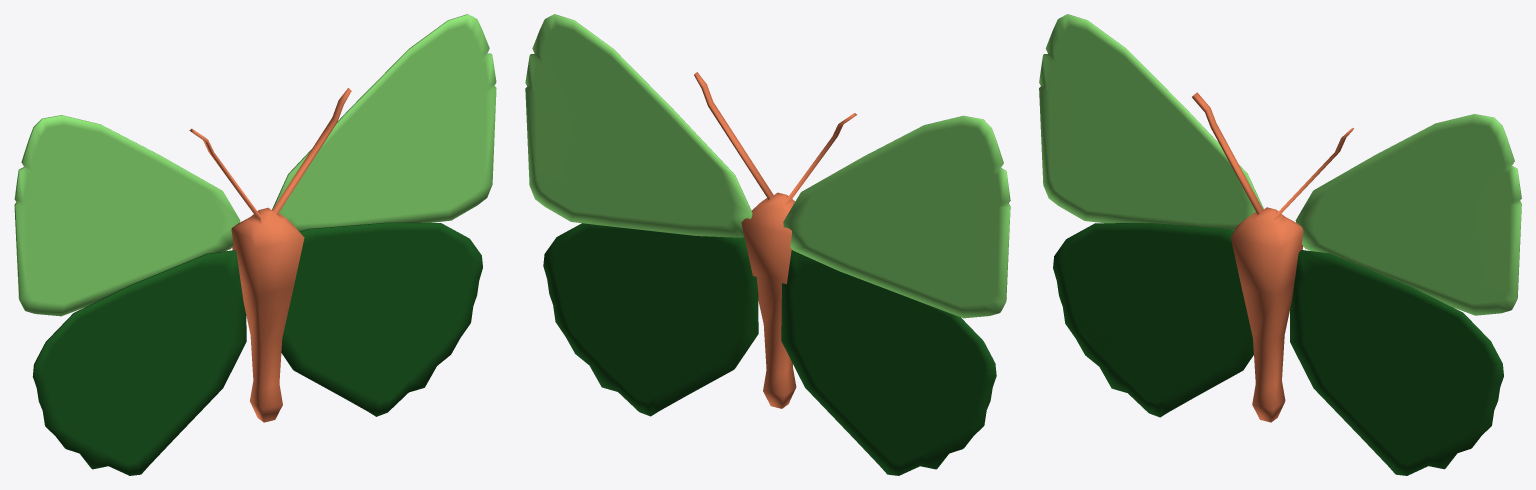
Rendered from greenHairstreak.fbx.
3 views of the same model, side by side, from view 1: azimuth 30°, elevation 25°; view 2: azimuth 150°, elevation 25°; view 3: azimuth 330°, elevation 25° (orthographic).
Parts seen in each view (by area): view 1: Cube; view 2: Cube; view 3: Cube.
Part boxes in pixels (left/top/right/bottom): Cube: left=14, top=14, right=496, bottom=475; Cube: left=525, top=14, right=1010, bottom=475; Cube: left=1039, top=14, right=1521, bottom=475.
Size of the model in its own units: 419 by 315 by 42.12.
